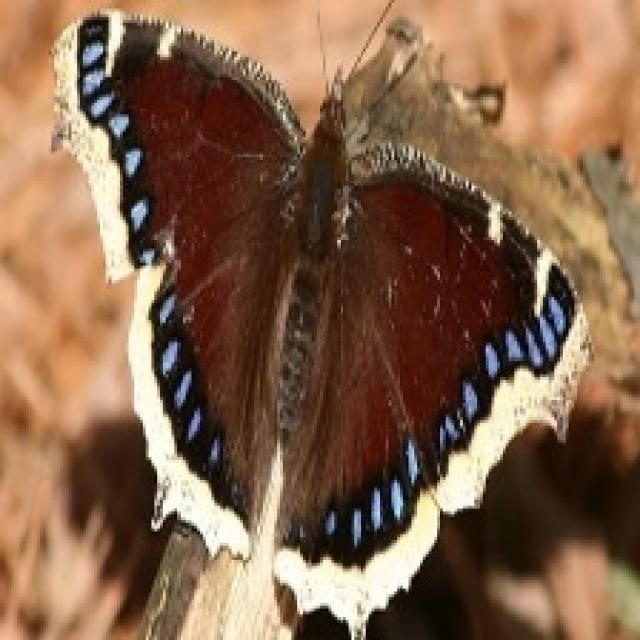butterfly: (55, 0, 594, 637)
